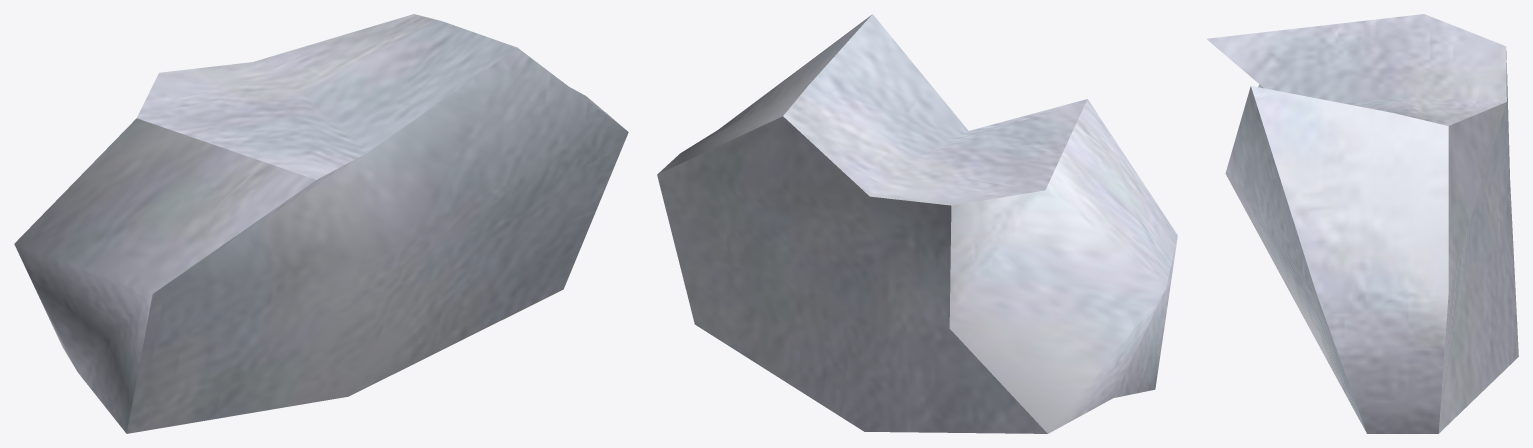
Rendered from snow_ball_4.obj.
3 views of the same model, side by side, from view 1: azimuth 30°, elevation 25°; view 2: azimuth 150°, elevation 25°; view 3: azimuth 270°, elevation 25° (orthographic). The views are drawn at different scales.
Parts seen in each view (by area): view 1: pCube12; view 2: pCube12; view 3: pCube12.
Part boxes in pixels (x1=…): pCube12: x1=14, y1=14, x2=628, y2=433; pCube12: x1=657, y1=14, x2=1177, y2=433; pCube12: x1=1206, y1=14, x2=1518, y2=433.
Bounding box in the file's own units: 3.64 × 2.27 × 1.82.
